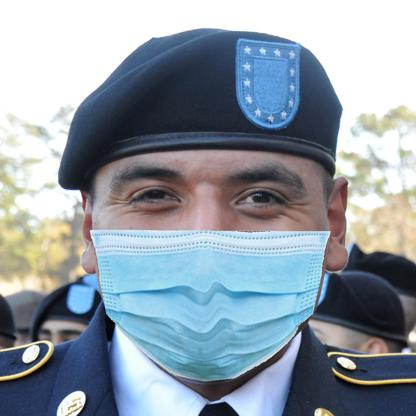mask: (88, 228, 334, 382)
